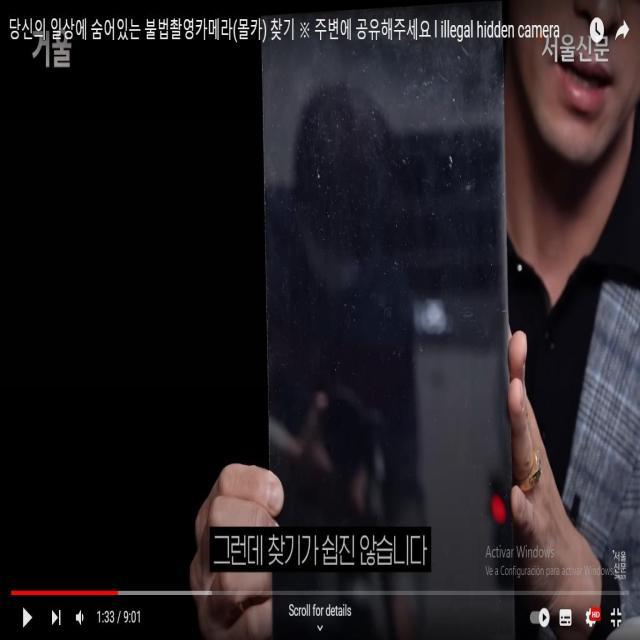hidden camera: (381, 296, 399, 331)
